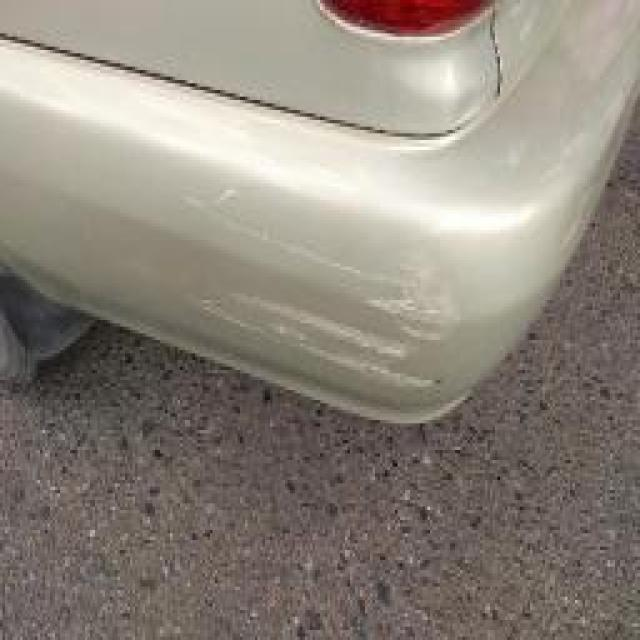Bumper: (162, 140, 468, 417)
